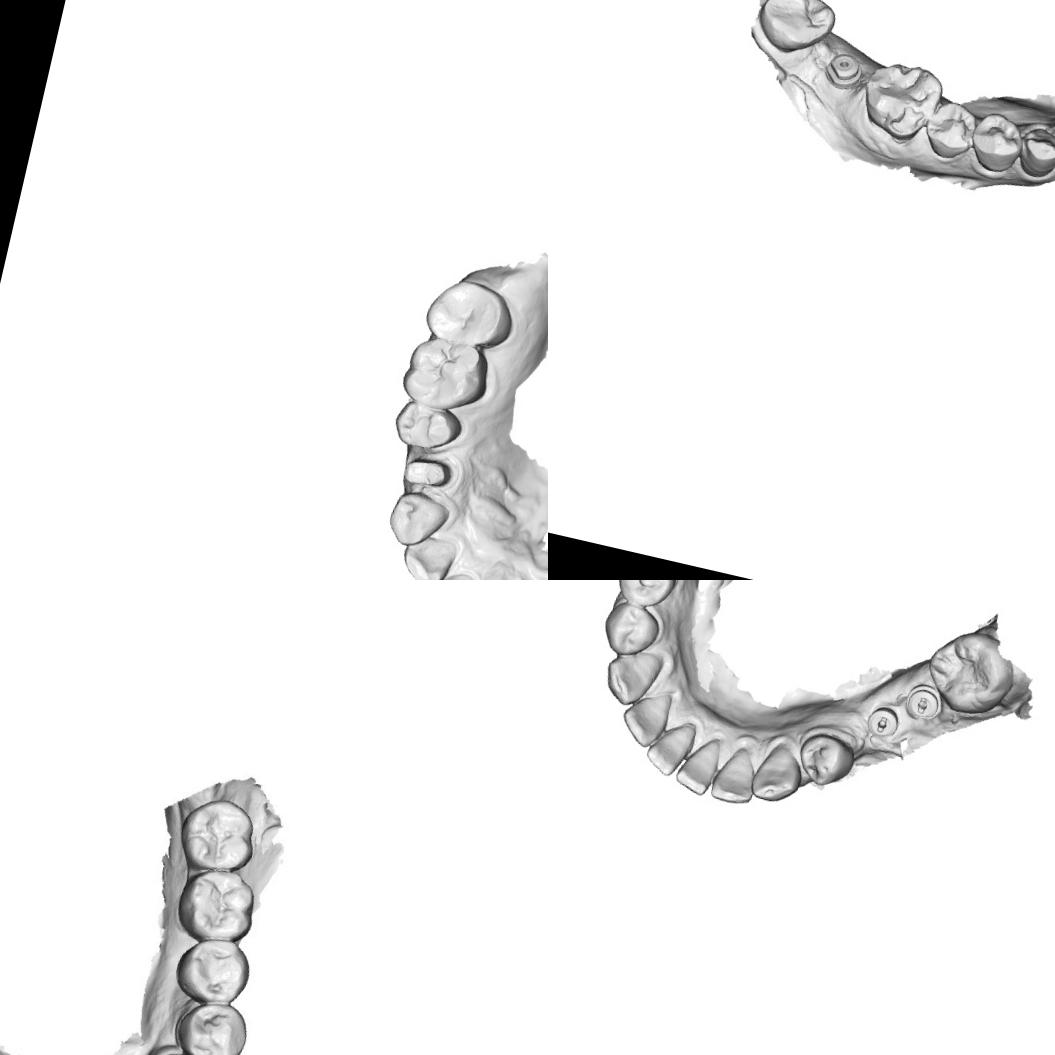canine: (384, 484, 454, 554), (599, 642, 665, 712), (746, 738, 810, 808), (1013, 123, 1055, 183)
crown: (400, 448, 464, 495)
implant: (819, 47, 867, 90)
implant_minus: (901, 678, 948, 728), (862, 702, 904, 742)
incisor: (618, 685, 676, 752), (641, 714, 699, 780), (708, 741, 762, 810), (672, 729, 724, 799), (396, 530, 459, 580), (414, 562, 486, 580)
molar: (918, 622, 1023, 723), (852, 54, 948, 150), (396, 331, 495, 421), (170, 860, 263, 952), (420, 272, 520, 357), (172, 789, 263, 878), (749, 0, 841, 63)
premolar: (167, 930, 257, 1012), (165, 991, 256, 1055), (390, 396, 467, 458), (791, 728, 860, 793), (965, 108, 1029, 178), (597, 597, 664, 662), (918, 96, 981, 164), (612, 580, 682, 613)
